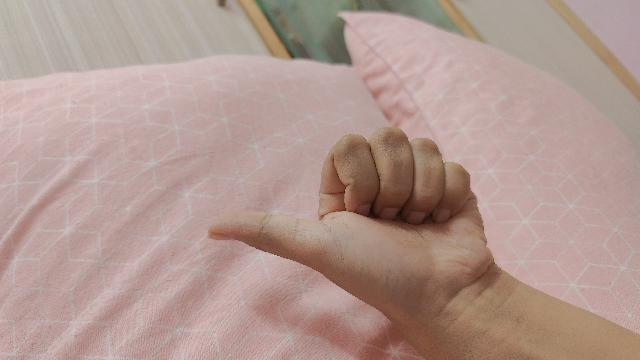shikhar: (209, 127, 640, 360)
